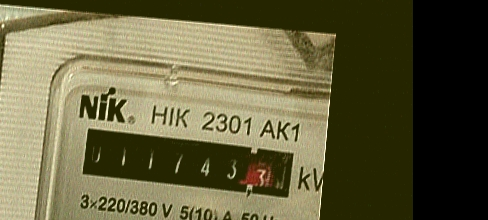0: (88, 137, 105, 165)
1: (115, 139, 132, 168), (143, 143, 158, 172)
3: (223, 154, 240, 182), (252, 166, 269, 189)
4: (198, 152, 214, 179)
7: (170, 148, 186, 174)
screen: (73, 122, 304, 205)
